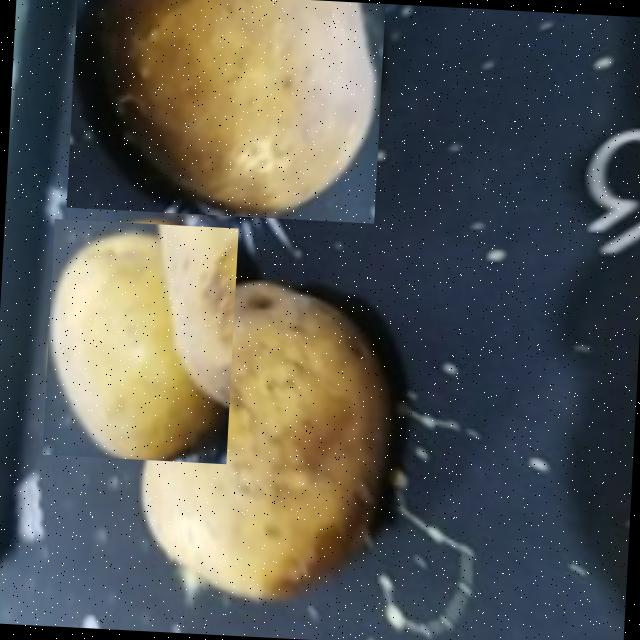Damaged potato: (134, 268, 409, 611), (66, 0, 385, 223)
Potato: (42, 218, 238, 463)
